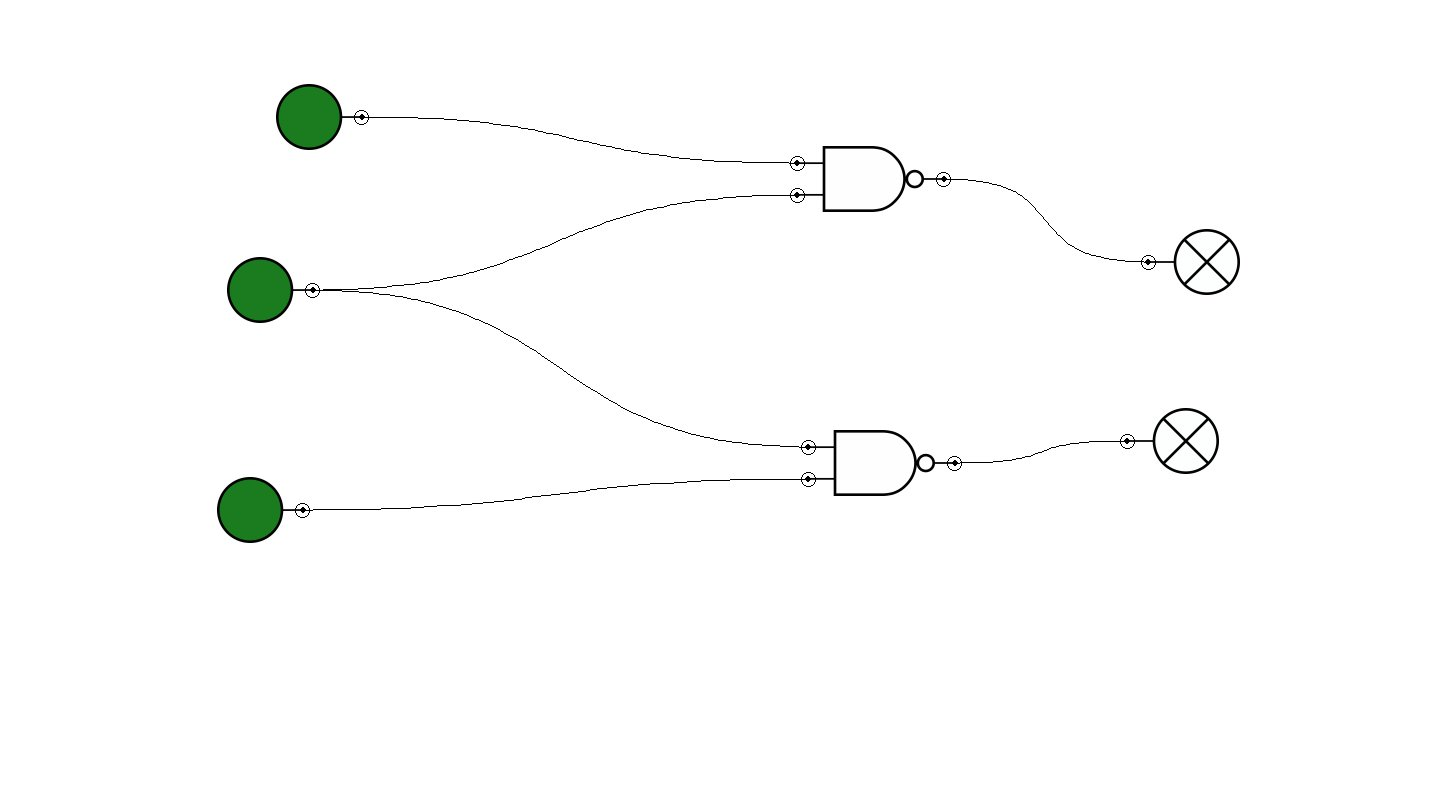bulb: (1141, 229, 1240, 295), (1120, 408, 1219, 474)
nand: (801, 430, 962, 496), (790, 146, 951, 212)
switch_True: (217, 477, 310, 543), (276, 84, 369, 150), (227, 257, 320, 323)
